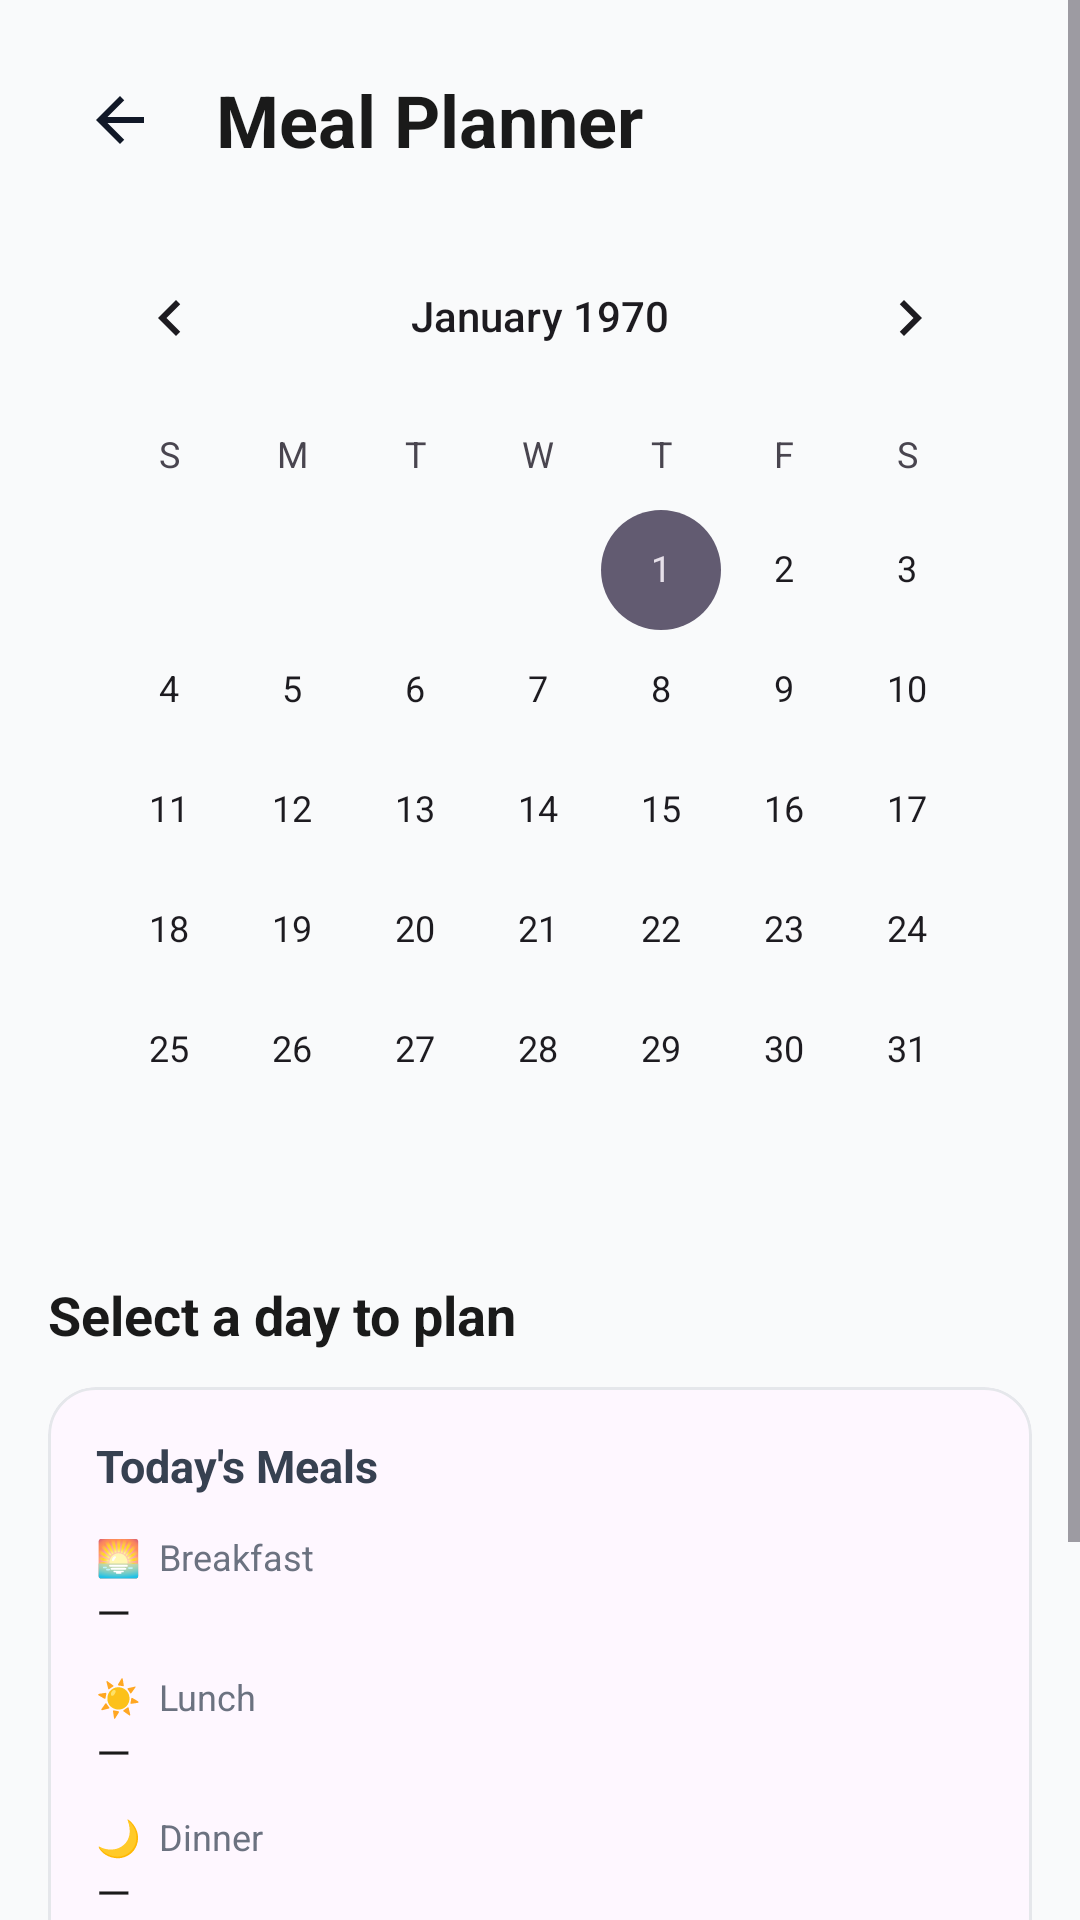

Point at icon controls on the screen. Image size 1080w x 1920h, points as (x,y).
arrow back: (120,120)
